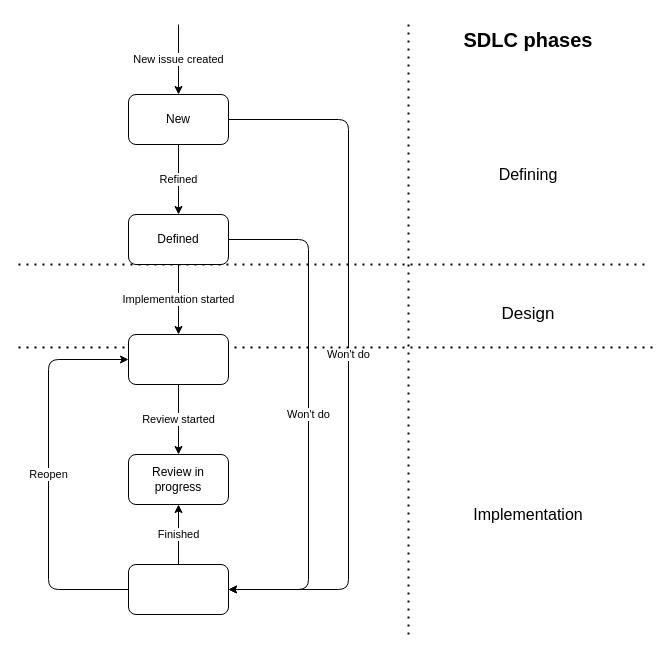
Image size: 671x654. Some labels were removed from this diagram. The centre of each missing label's shape, as x and y in pixels:
Done: point (178, 589)
In Progress: point (178, 359)
